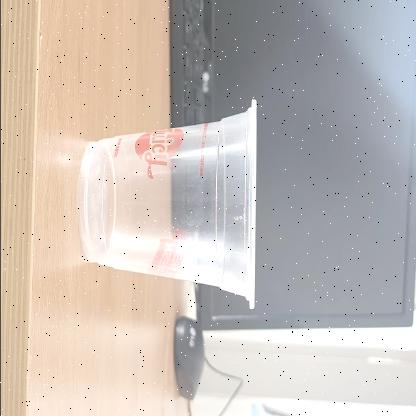Others: (77, 97, 259, 311)
